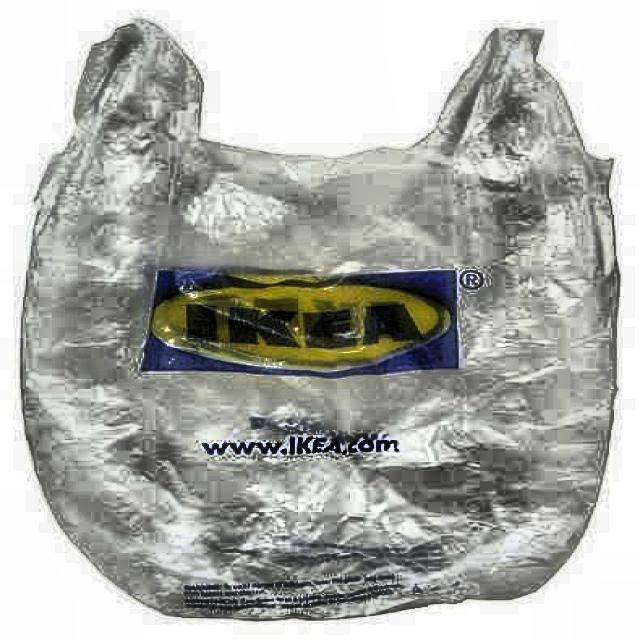Plastic: (23, 14, 622, 625)
